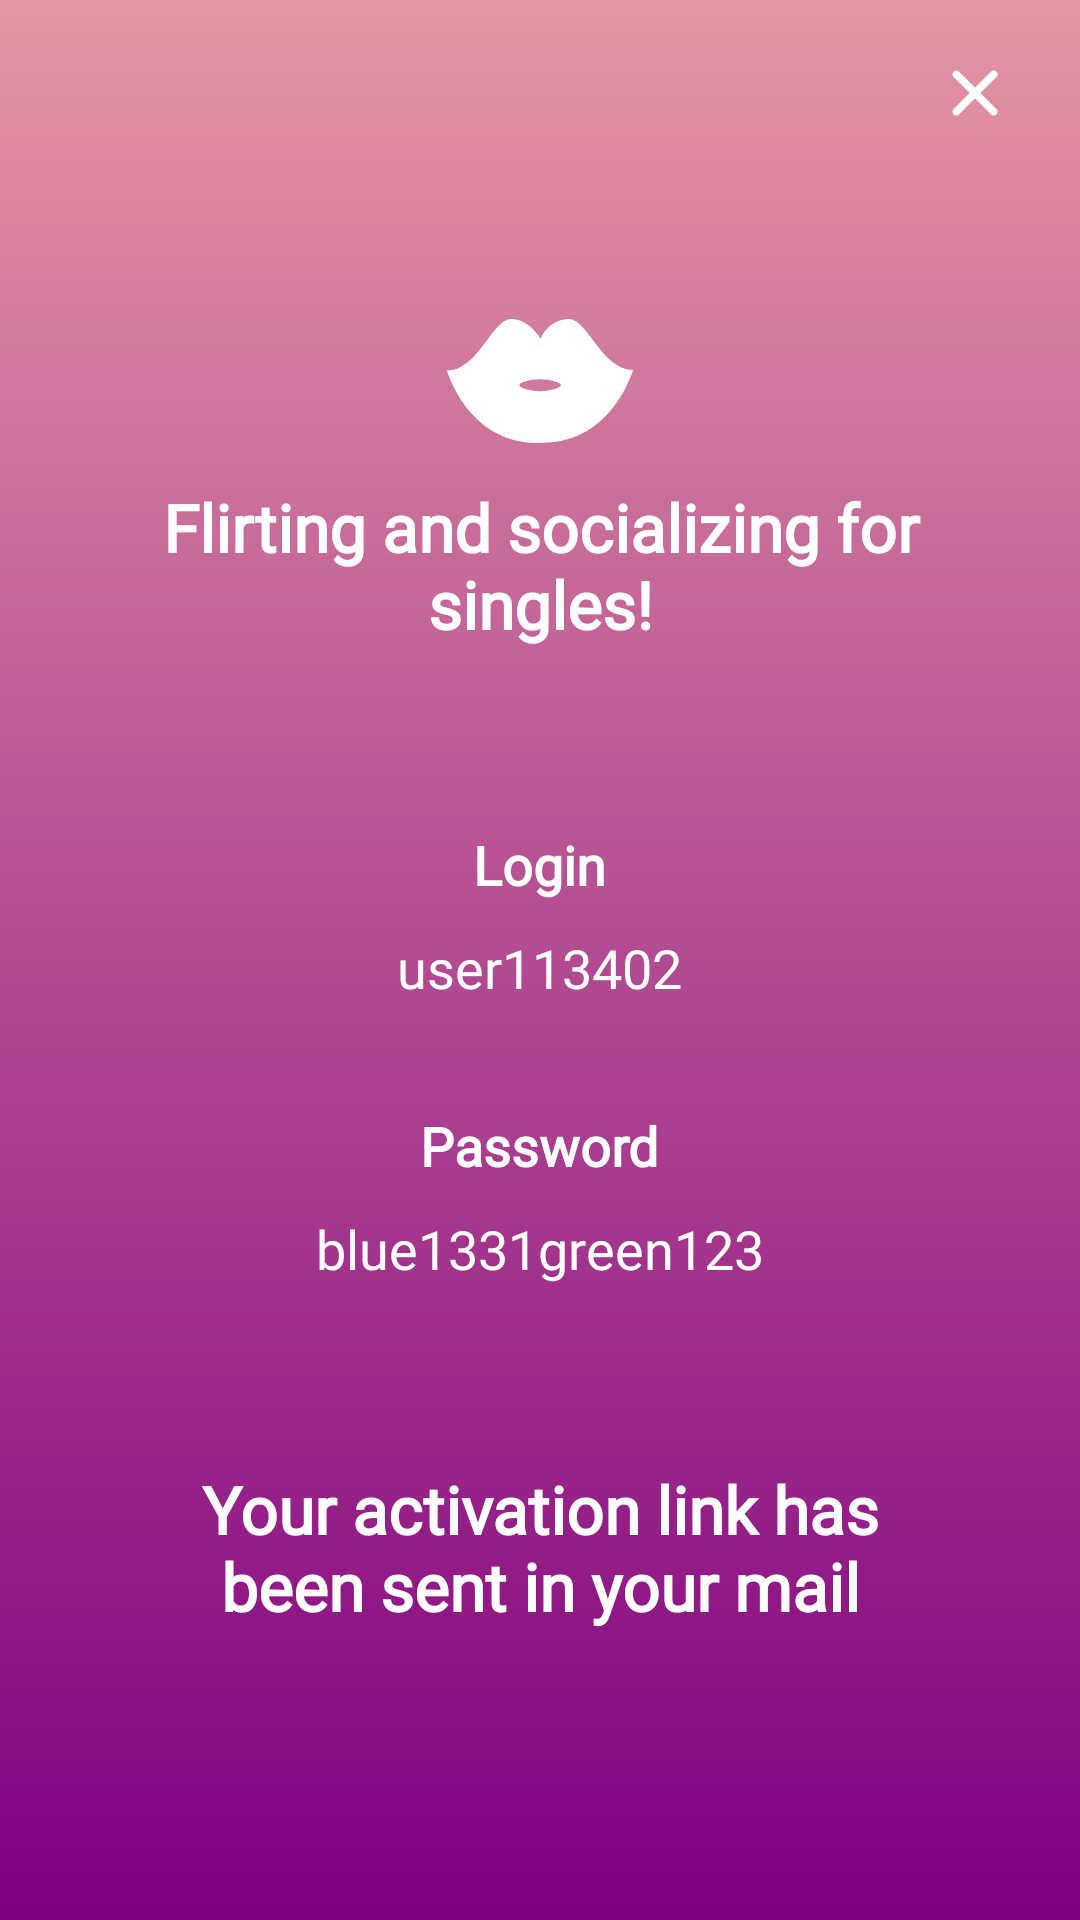

Icon bounding boxes for this 1080*1920 phone screenshot, format box=[x1, y1, x2, y2]:
close info: box=[952, 70, 998, 116]
lips info: box=[447, 319, 633, 443]
